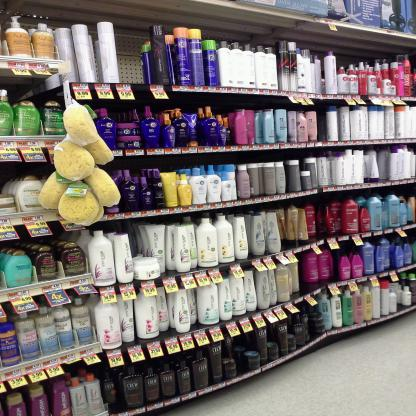Void: (117, 31, 141, 87)
